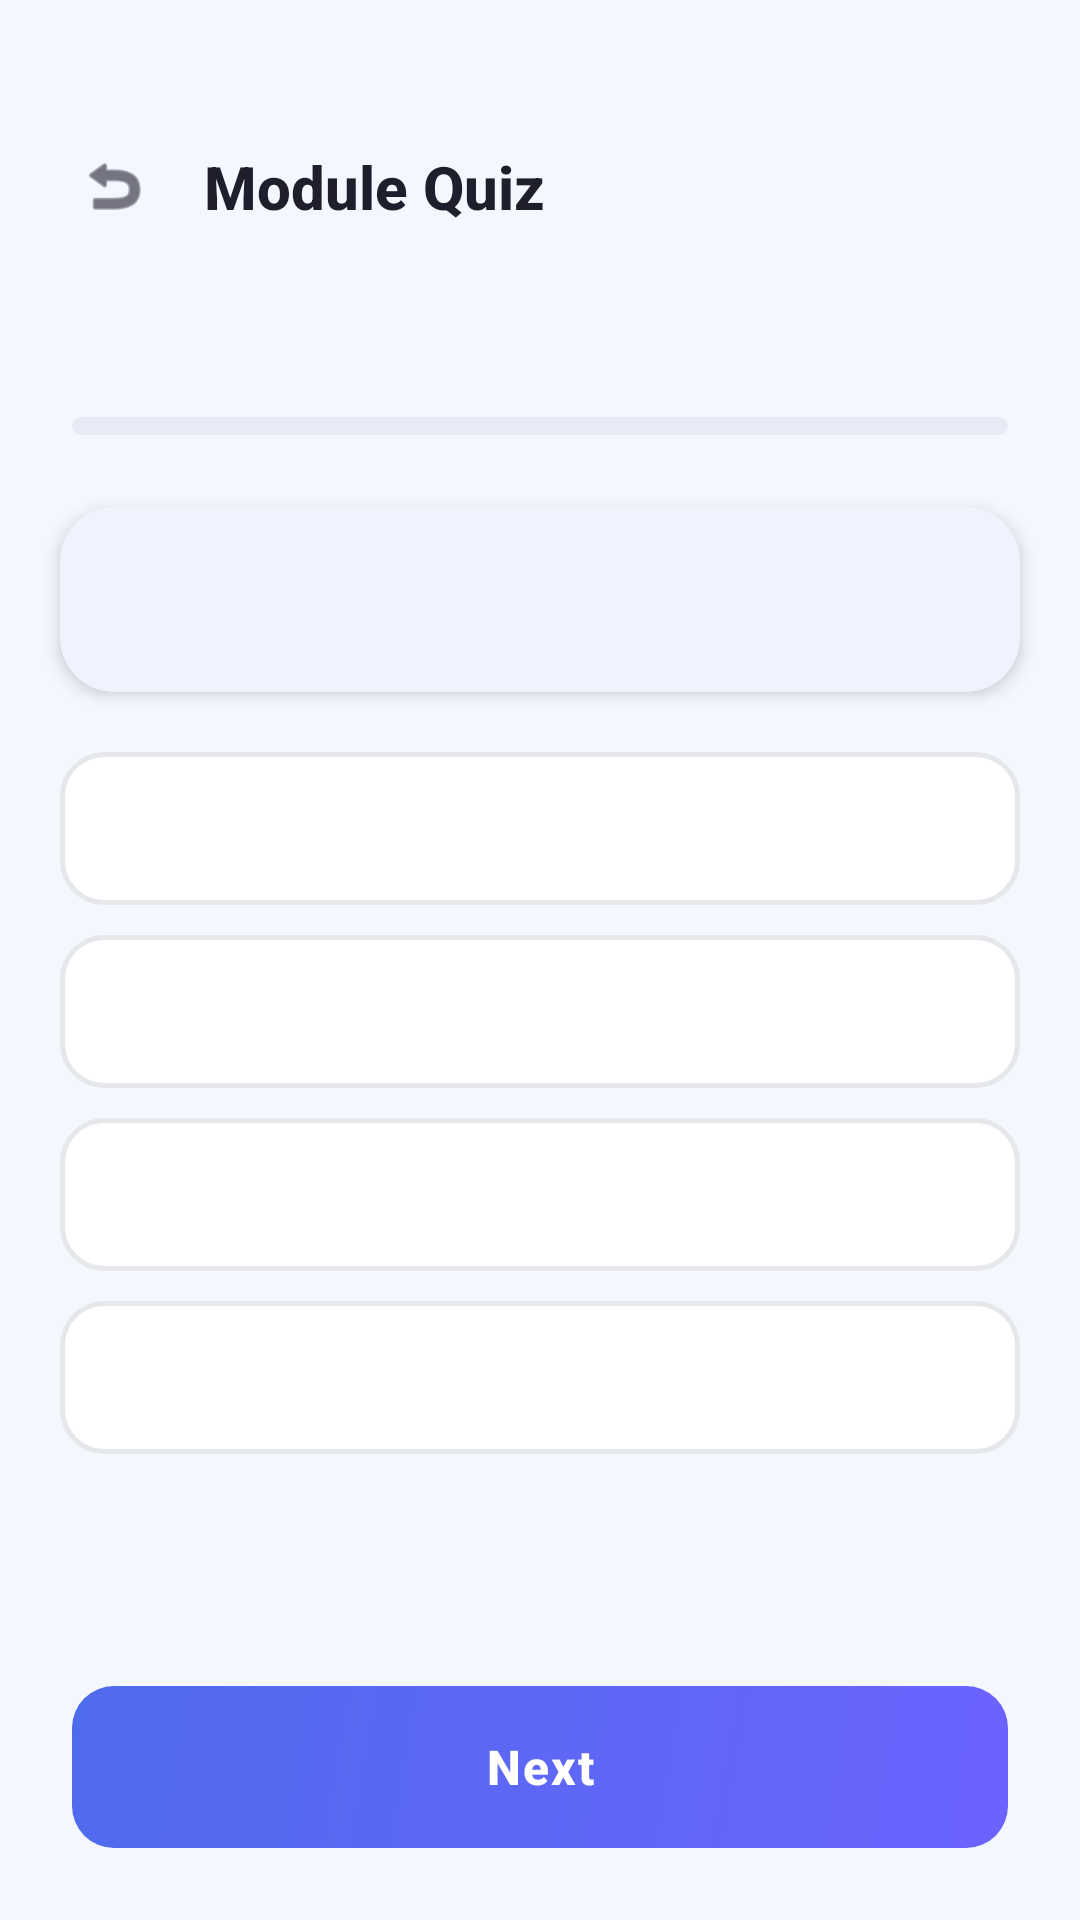

Locate icon controls on the screen. Image size 1080*1920, boxes as region(x1, y1, x2, y2).
Go back: region(89, 163, 141, 210)
